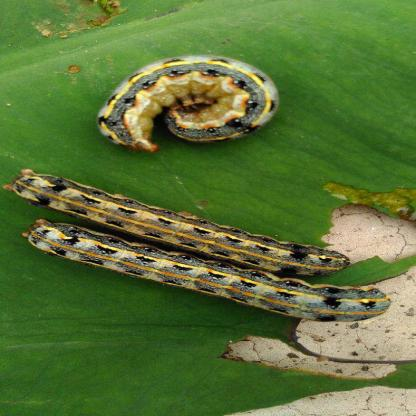armyworm: (11, 206, 399, 326), (13, 168, 361, 280), (96, 53, 299, 151)
